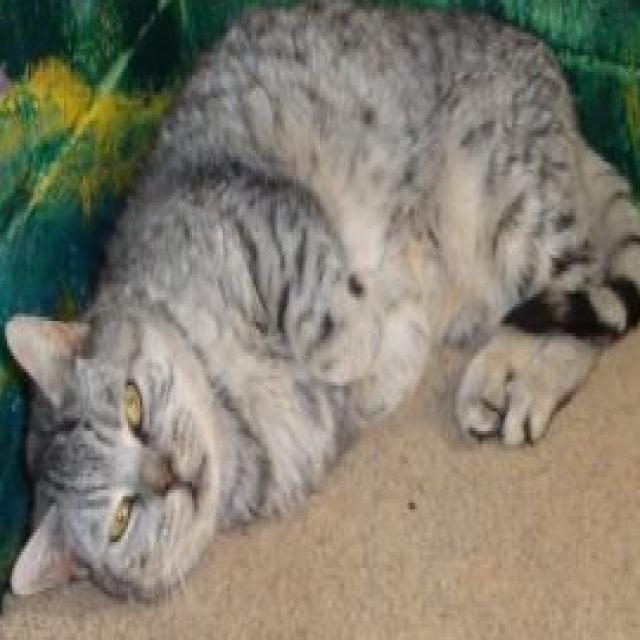British Shorthair: (0, 0, 640, 614)
